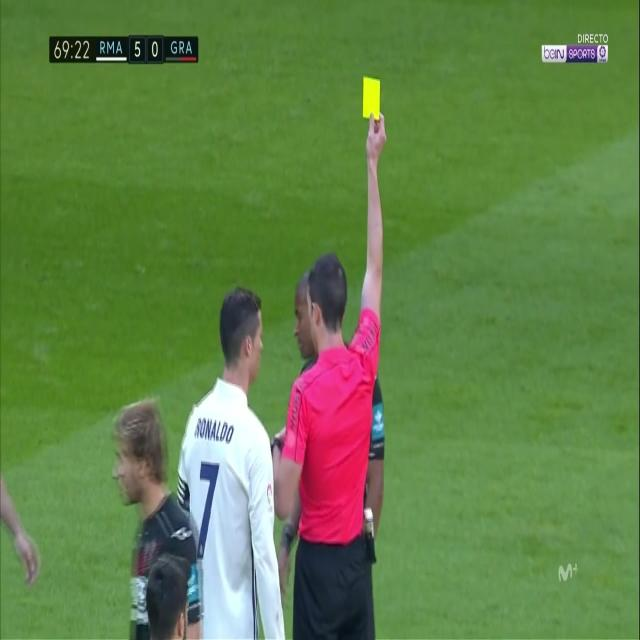Player: (177, 283, 288, 640), (112, 390, 204, 640)
Referee: (272, 114, 390, 640)
